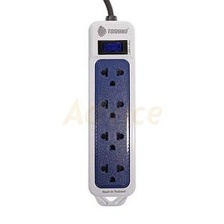three_eye_plug: (81, 13, 141, 203)
